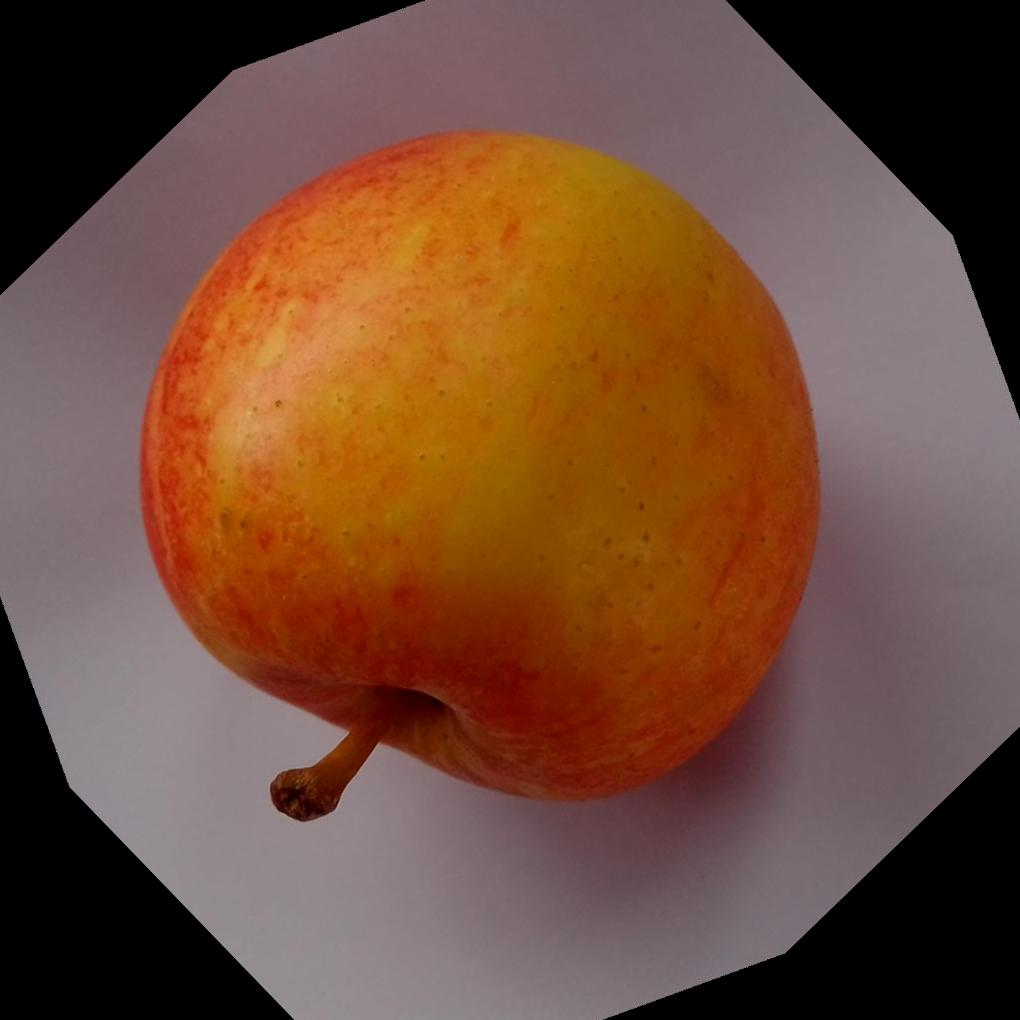FreshGuava: (134, 123, 821, 821)
